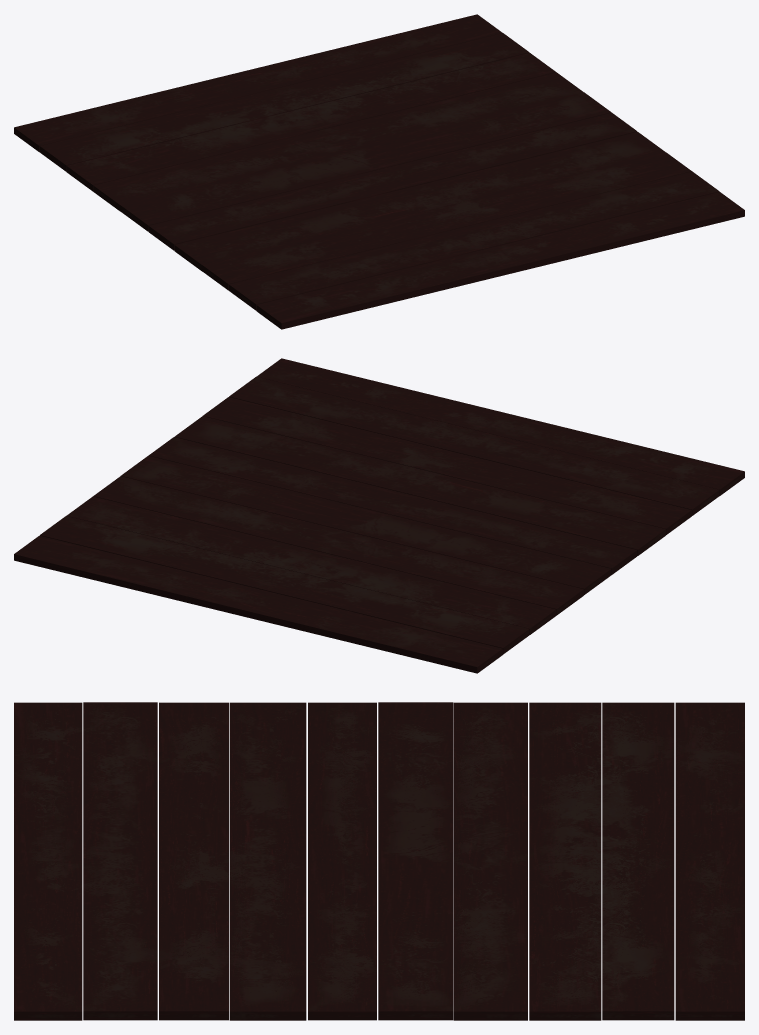
Rendered from SM_Floor01a.fbx.
The picture shows the model from 3 angles, top to bottom: view 1: azimuth 30°, elevation 25°; view 2: azimuth 150°, elevation 25°; view 3: azimuth 270°, elevation 25°; orthographic projection. The views are drawn at different scales.
Visible parts, largest first — view 1: SM_Floor01a; view 2: SM_Floor01a; view 3: SM_Floor01a.
Boxes of the visible parts, <box> form: SM_Floor01a: <box>14,14,744,329</box>; SM_Floor01a: <box>14,358,744,673</box>; SM_Floor01a: <box>14,702,744,1020</box>.
Bounding box in the file's own units: 300 × 300 × 4.14.
Materials: 1 (1 with a texture image).
